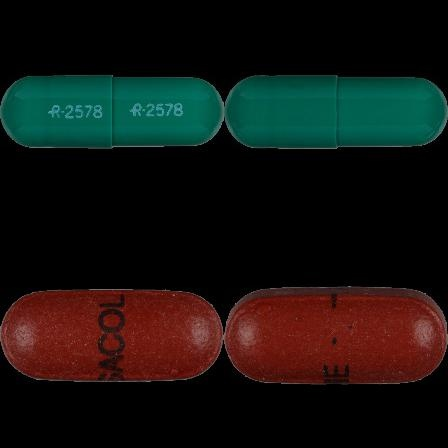55154-2097: (0, 0, 224, 224)
